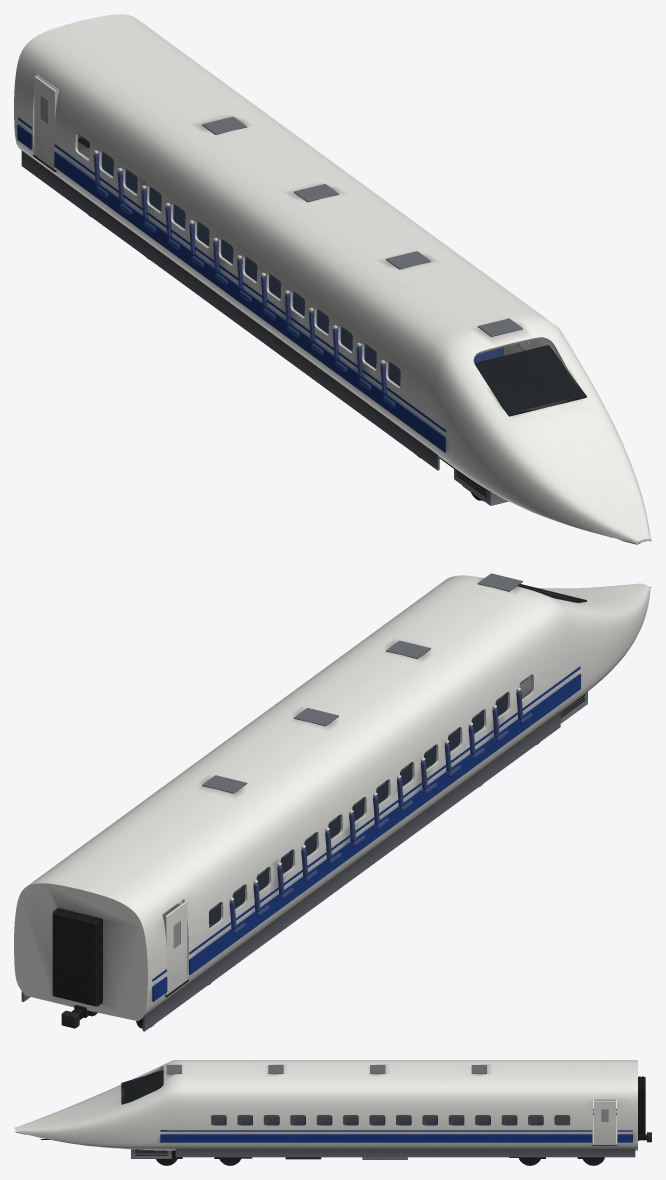
File: shinkansen_end.glb
3 views of the same model, one above another, from view 1: azimuth 30°, elevation 25°; view 2: azimuth 150°, elevation 25°; view 3: azimuth 270°, elevation 25° (orthographic). The views are drawn at different scales.
Visible parts, largest first — view 1: shinkansen_end_paint_white, shinkansen_end_paint_grey, shinkansen_end_paint_blue, shinkansen_end_seat_moquette, canopy, shinkansen_end_glass; view 2: shinkansen_end_paint_white, shinkansen_end_paint_grey, shinkansen_end_paint_blue, shinkansen_end_seat_moquette, shinkansen_end_gangway, shinkansen_end_glass; view 3: shinkansen_end_paint_white, shinkansen_end_paint_grey, shinkansen_end_paint_blue, shinkansen_end_glass, canopy, shinkansen_end_floor_vinyl, shinkansen_end_seat_moquette, shinkansen_end_powder_grey, shinkansen_end_bogie, shinkansen_end_plastic_grey, shinkansen_end_gangway, shinkansen_end_cast_iron (+2 smaller).
Part boxes in pixels (left/top/right/bottom): shinkansen_end_paint_white: left=14, top=14, right=651, bottom=544; shinkansen_end_paint_grey: left=21, top=116, right=522, bottom=470; shinkansen_end_paint_blue: left=17, top=117, right=640, bottom=543; shinkansen_end_seat_moquette: left=93, top=153, right=504, bottom=407; canopy: left=474, top=345, right=586, bottom=416; shinkansen_end_glass: left=40, top=96, right=531, bottom=386; shinkansen_end_paint_white: left=14, top=575, right=651, bottom=1021; shinkansen_end_paint_grey: left=21, top=573, right=560, bottom=1031; shinkansen_end_paint_blue: left=152, top=666, right=580, bottom=1001; shinkansen_end_seat_moquette: left=209, top=691, right=532, bottom=934; shinkansen_end_gangway: left=52, top=908, right=102, bottom=1006; shinkansen_end_glass: left=174, top=674, right=531, bottom=948; shinkansen_end_paint_white: left=14, top=1060, right=637, bottom=1150; shinkansen_end_paint_grey: left=166, top=1065, right=635, bottom=1157; shinkansen_end_paint_blue: left=160, top=1130, right=632, bottom=1142; shinkansen_end_glass: left=211, top=1109, right=608, bottom=1125; canopy: left=121, top=1070, right=163, bottom=1104; shinkansen_end_floor_vinyl: left=211, top=1116, right=570, bottom=1125; shinkansen_end_seat_moquette: left=215, top=1116, right=543, bottom=1125; shinkansen_end_powder_grey: left=131, top=1149, right=407, bottom=1159; shinkansen_end_bogie: left=156, top=1150, right=604, bottom=1165; shinkansen_end_plastic_grey: left=218, top=1117, right=541, bottom=1121; shinkansen_end_gangway: left=638, top=1076, right=645, bottom=1135; shinkansen_end_cast_iron: left=41, top=1134, right=639, bottom=1161.
Size of what is drawn, in the model's own units: 3.47 by 3.87 by 25.11.
20 materials, 15 textured.
